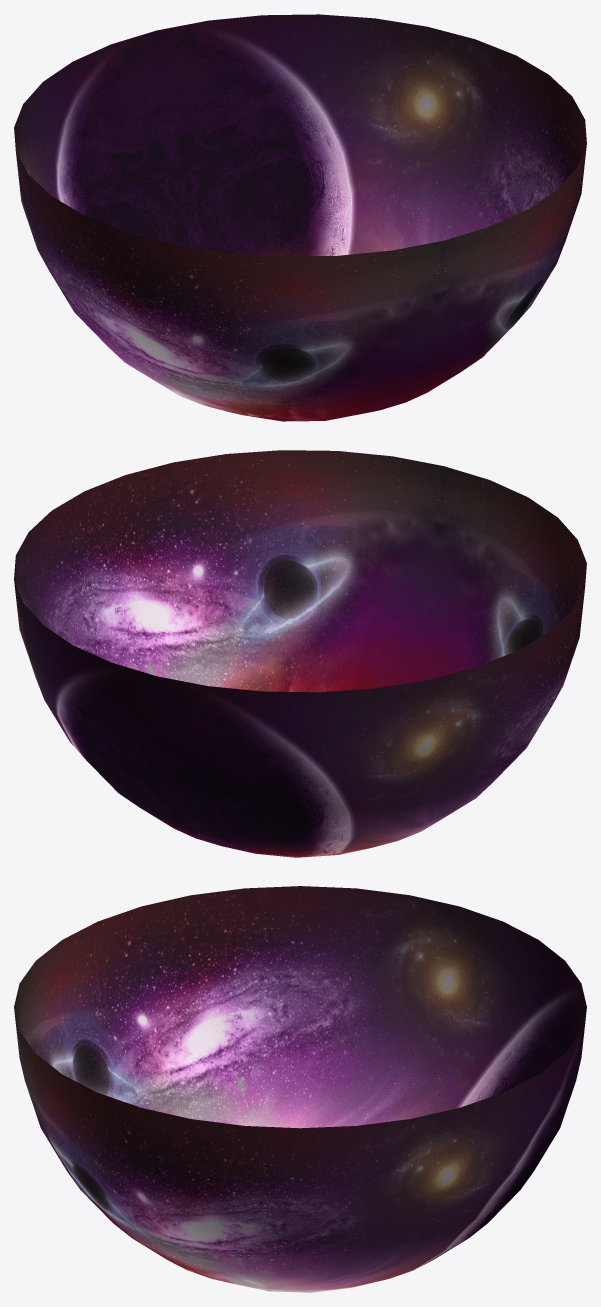
File: 10101_sky.FBX
3 views of the same model, one above another, from view 1: azimuth 30°, elevation 25°; view 2: azimuth 150°, elevation 25°; view 3: azimuth 270°, elevation 25° (orthographic).
Parts seen in each view (by area): view 1: 10101_sky; view 2: 10101_sky; view 3: 10101_sky.
Part boxes in pixels (box(x1,y1,x2,y2)): 10101_sky: box(14, 14, 586, 421); 10101_sky: box(14, 450, 586, 857); 10101_sky: box(14, 886, 586, 1292).
Bounding box in the file's own units: 22019 × 10801 × 22019.
